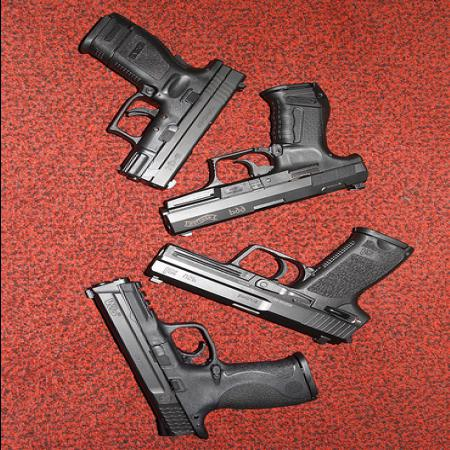Pistol: (82, 279, 322, 439), (163, 82, 366, 242), (144, 230, 412, 346), (78, 17, 248, 191)
